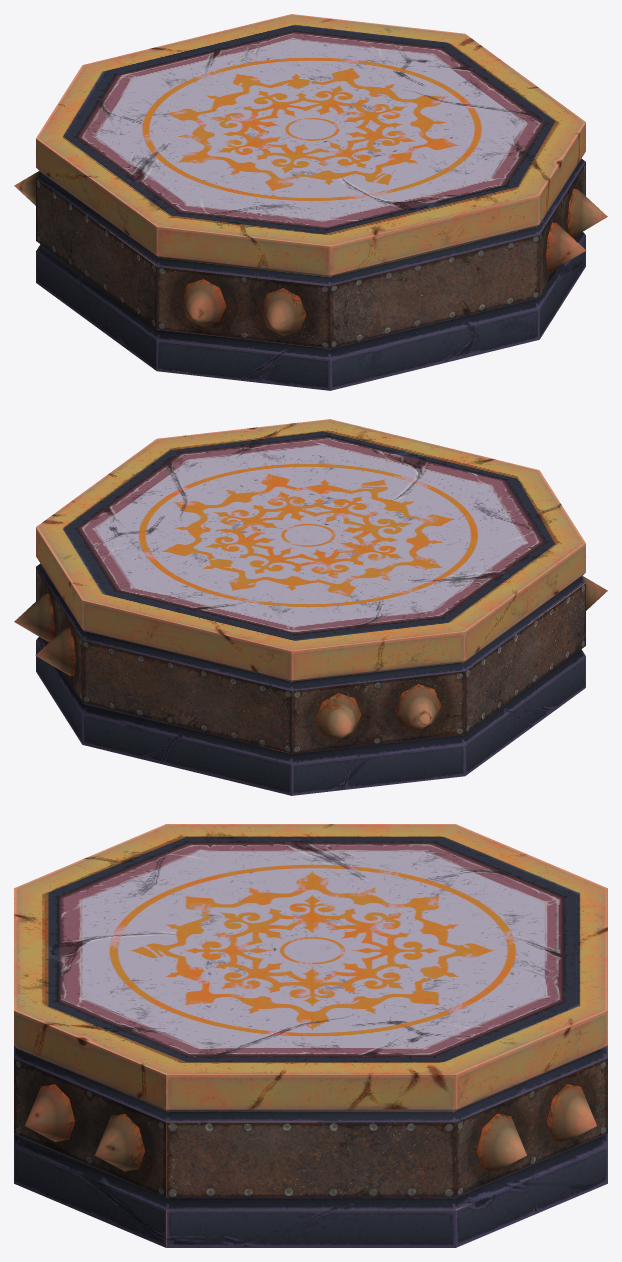
The model's file is sb_obj_DemonsCastle002_Altar01.fbx.
3 views of the same model, one above another, from view 1: azimuth 30°, elevation 25°; view 2: azimuth 150°, elevation 25°; view 3: azimuth 270°, elevation 25° (orthographic). The views are drawn at different scales.
Visible parts, largest first — view 1: sb_obj_DemonsCastle002_Altar01; view 2: sb_obj_DemonsCastle002_Altar01; view 3: sb_obj_DemonsCastle002_Altar01.
Boxes of the visible parts, <box> form: sb_obj_DemonsCastle002_Altar01: <box>14,14,607,390</box>; sb_obj_DemonsCastle002_Altar01: <box>14,419,607,795</box>; sb_obj_DemonsCastle002_Altar01: <box>14,824,607,1247</box>.
Size of the model in its own units: 3.11 by 0.9993 by 3.11.
